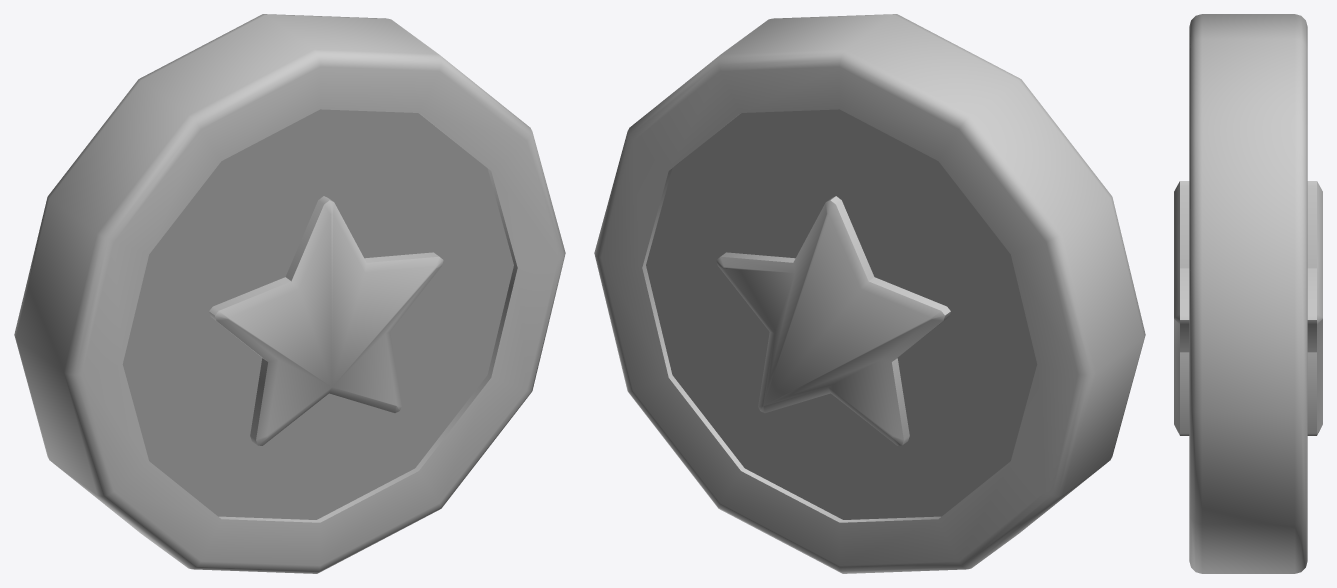
Rendered from Star Silver.fbx.
3 renders of one model, left to right at view 1: azimuth 30°, elevation 25°; view 2: azimuth 150°, elevation 25°; view 3: azimuth 270°, elevation 25°, orthographic. The views are drawn at different scales.
Parts seen in each view (by area): view 1: Star Silver; view 2: Star Silver; view 3: Star Silver.
Boxes of the visible parts, x1,y1,x2,y2 form: Star Silver: (14,14,565,573); Star Silver: (594,14,1145,573); Star Silver: (1174,14,1322,573).
Bounding box in the file's own units: 0.2371 × 0.2371 × 0.0627.
